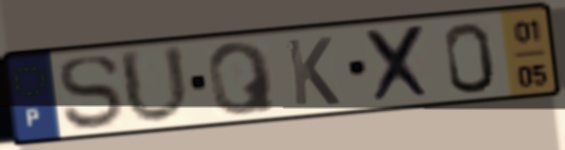0: (440, 19, 500, 96)
K: (283, 34, 343, 109)
Q: (204, 39, 281, 119)
S: (55, 52, 124, 133)
U: (114, 42, 195, 128)
X: (361, 21, 436, 106)
